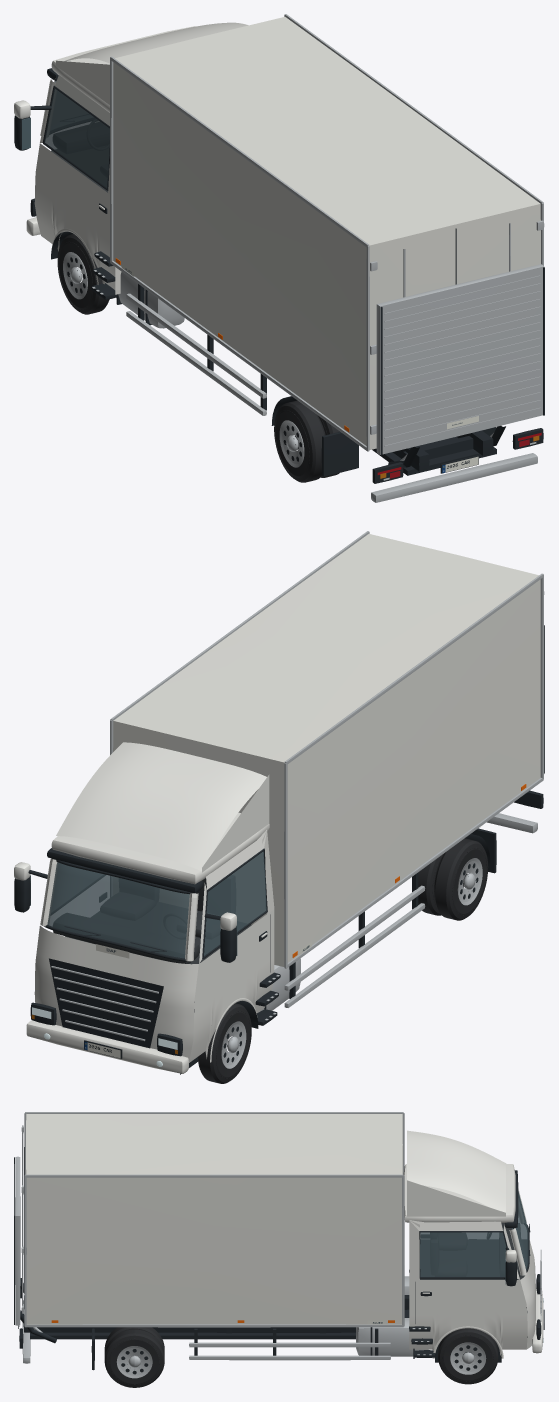
File: Entrega_03_DAF_CF310_LOD0.glb
3 renders of one model, top to bottom at view 1: azimuth 30°, elevation 25°; view 2: azimuth 150°, elevation 25°; view 3: azimuth 270°, elevation 25°, orthographic. The views are drawn at different scales.
Visible parts, largest first — view 1: Cargo, Liftgate, Body, Chassis, Glass, Wheel_RL, Wheel_FL, Interior; view 2: Cargo, Body, Glass, Interior, Chassis, Wheel_RL, Wheel_FL; view 3: Cargo, Body, Chassis, Glass, Interior, Wheel_RR, Wheel_FR, Liftgate.
Boxes of the visible parts, bbox=[...] form: Cargo: bbox=[110, 14, 544, 451]; Liftgate: bbox=[376, 264, 544, 455]; Body: bbox=[14, 22, 543, 483]; Chassis: bbox=[51, 231, 537, 502]; Glass: bbox=[22, 81, 109, 187]; Wheel_RL: bbox=[274, 400, 339, 482]; Wheel_FL: bbox=[57, 234, 109, 314]; Interior: bbox=[51, 119, 109, 192]; Cargo: bbox=[110, 531, 544, 968]; Body: bbox=[14, 742, 543, 1073]; Glass: bbox=[30, 851, 266, 958]; Interior: bbox=[53, 875, 251, 964]; Chassis: bbox=[180, 813, 537, 1074]; Wheel_RL: bbox=[418, 838, 488, 920]; Wheel_FL: bbox=[198, 1003, 251, 1083]; Cargo: bbox=[21, 1112, 404, 1327]; Body: bbox=[18, 1130, 544, 1358]; Chassis: bbox=[20, 1276, 527, 1370]; Glass: bbox=[420, 1191, 528, 1284]; Interior: bbox=[420, 1223, 526, 1279]; Wheel_RR: bbox=[104, 1327, 164, 1387]; Wheel_FR: bbox=[438, 1328, 498, 1384]; Liftgate: bbox=[14, 1156, 20, 1325].
Bounding box in the file's own units: 3.15 × 3.99 × 8.99.
Materials: 16 (2 with a texture image).
